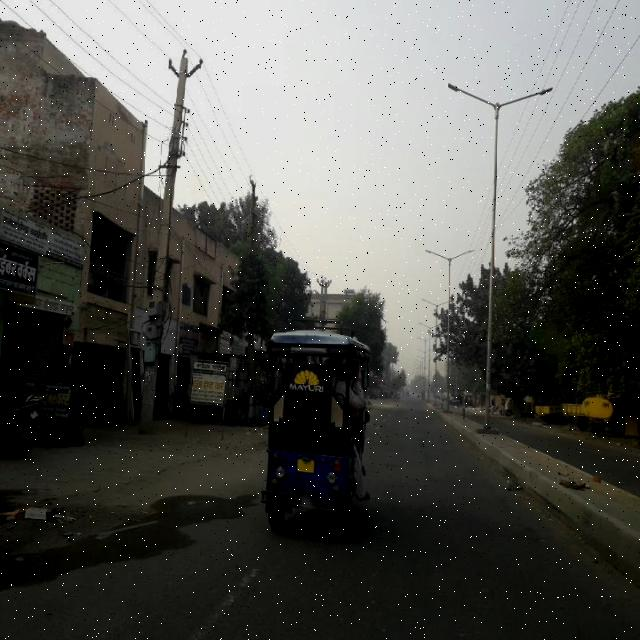D44: (148, 559, 266, 637)
